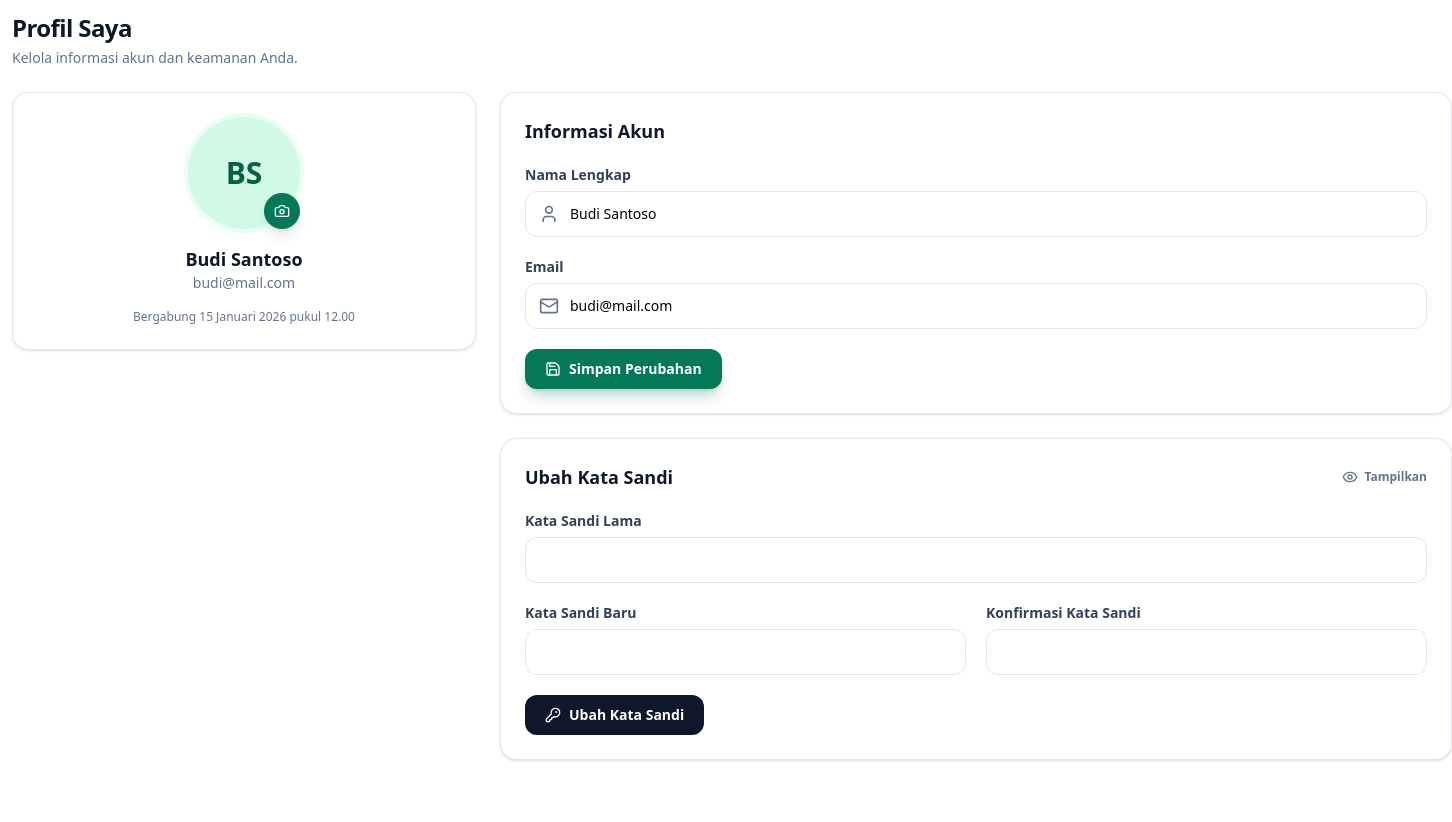
Test: formulir informasi akun › menolak email kosong saat nama terisi
Replace the text in the field with id "name" with "Budi" at coordinates (976, 214), box [525,191,1427,237]
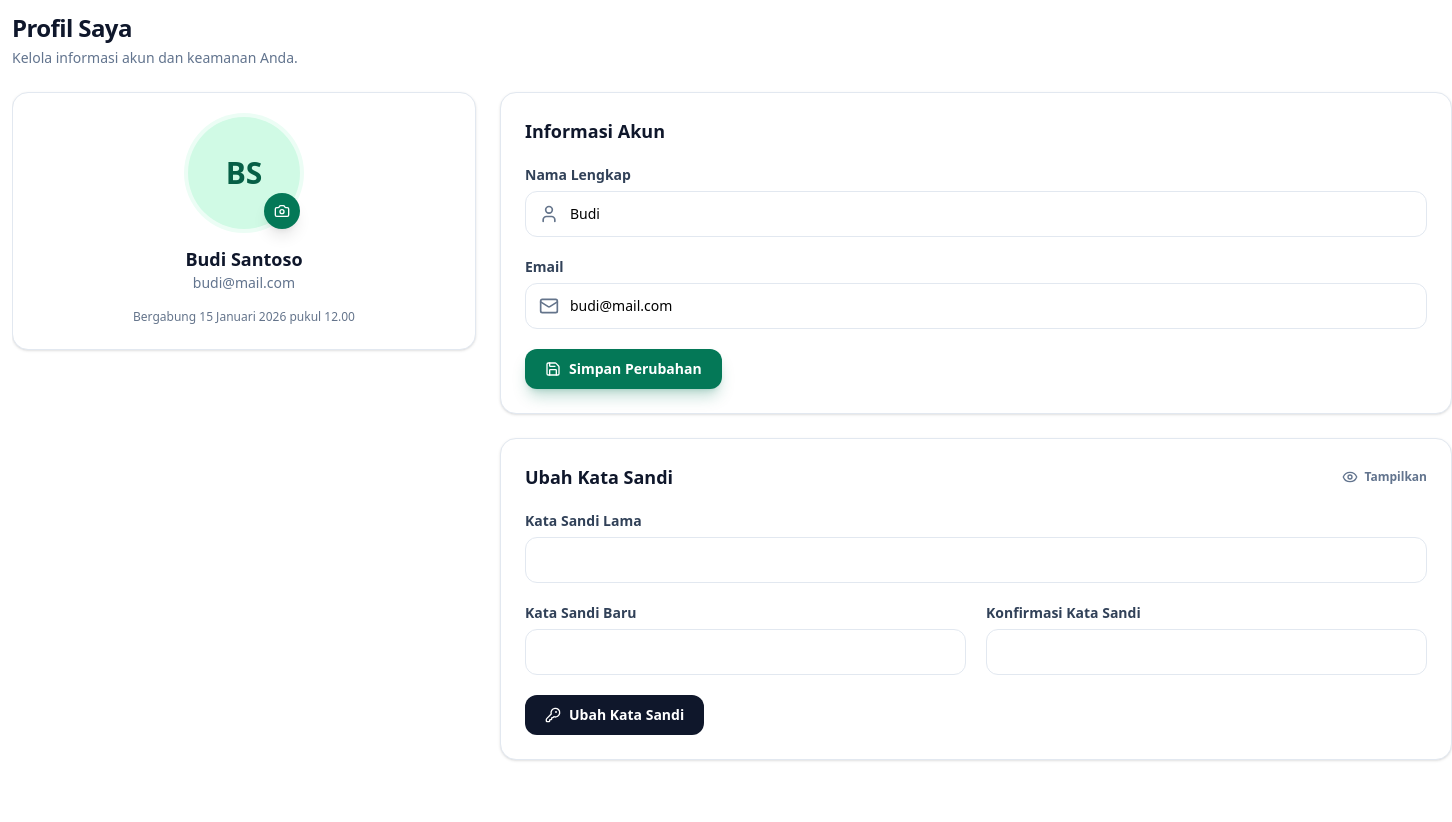
Clear the field with id "email" at coordinates (976, 306), box [525,283,1427,329]
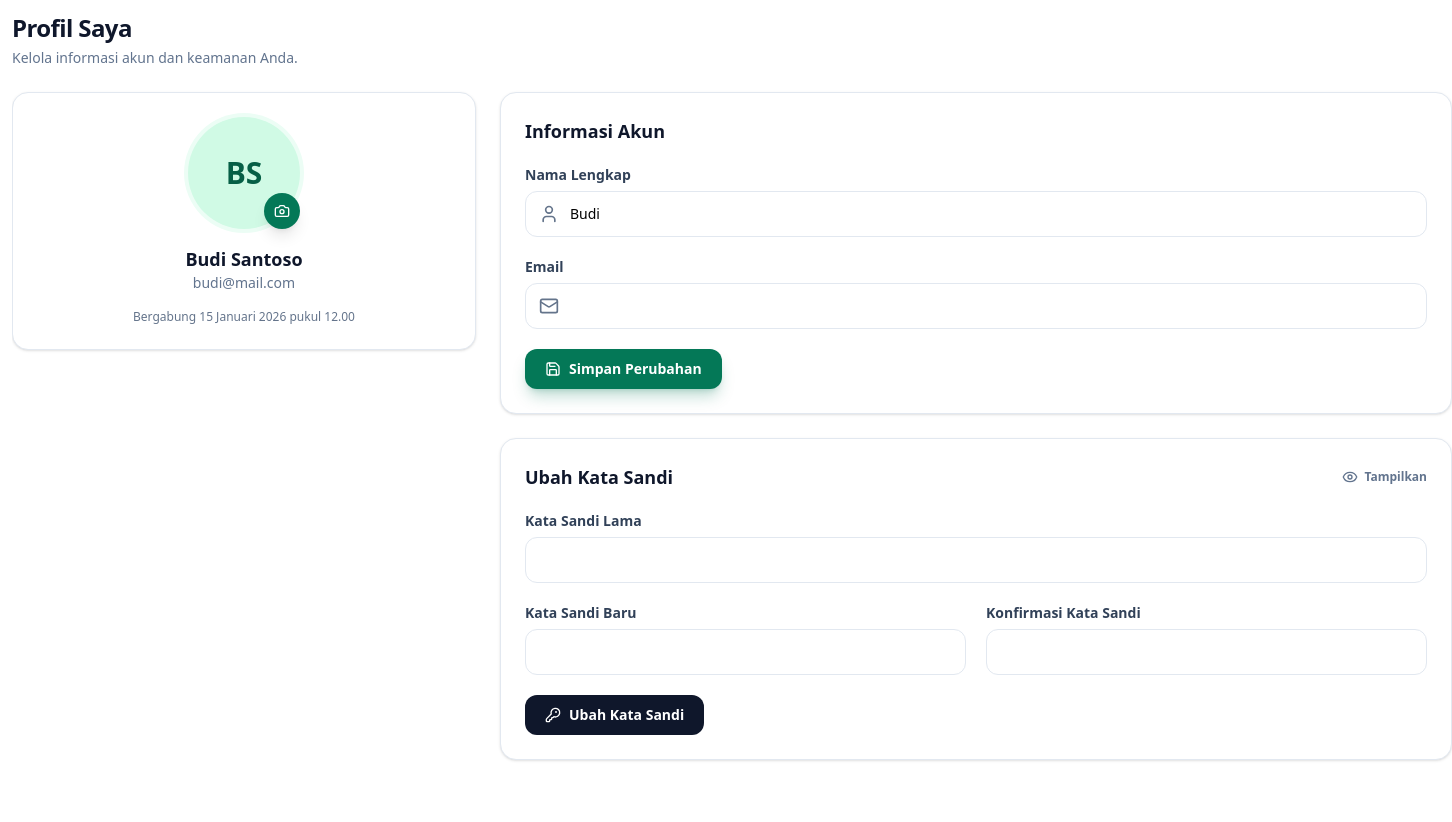
Submit the form "Informasi Akun Nama Lengkap Email Simpan Perubahan", box [500,92,1451,414]
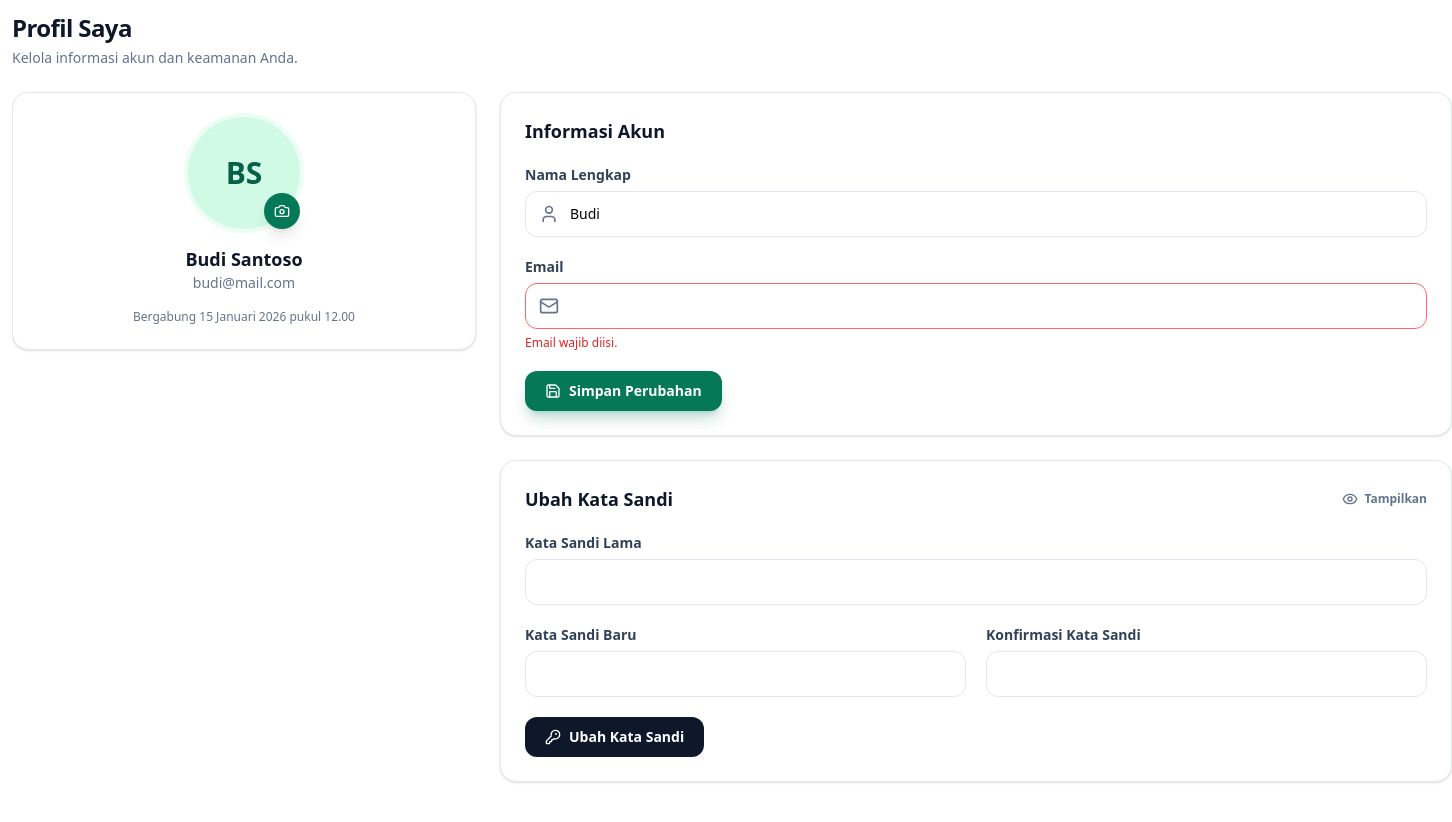
Check: the text "Email wajib diisi." is shown, box [525,334,617,351]
